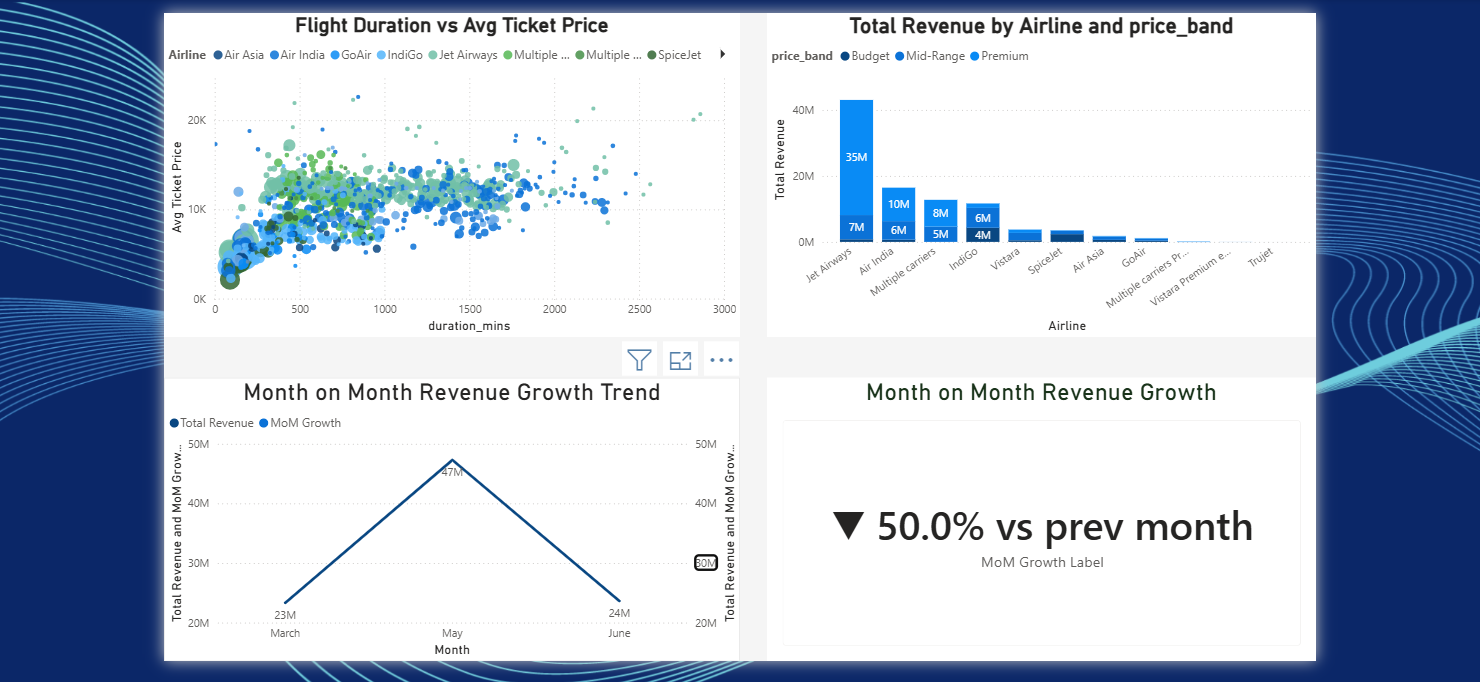

The dashboard page shown, as its layout file describes it:
{"tool":"powerbi","page":{"name":"Pricing Intelligence","canvas":[1280,720],"ordinal":2},"visuals":[{"type":"scatterChart","title":"Flight Duration vs Avg Ticket Price","fields":{"X":["flights.duration_mins"],"Y":["_Measure.Avg Ticket Price"],"Series":["flights.Airline"],"Size":["_Measure.Total Flights"]},"box":[0,0,640,360],"z":0},{"type":"columnChart","fields":{"Category":["flights.Airline"],"Y":["_Measure.Total Revenue"],"Series":["flights.price_band"]},"box":[670,0,610,360],"z":1000},{"type":"cardVisual","title":"Month on Month Revenue Growth","fields":{"Data":["_Measure.MoM Growth Label"]},"box":[670,405,610,315],"z":1003},{"type":"lineChart","title":"Month on Month Revenue Growth Trend","fields":{"Category":["flights.Date_of_Journey.Variation.Date Hierarchy.Month"],"Y":["_Measure.Total Revenue"],"Y2":["_Measure.MoM Growth"]},"box":[0,405,640,315],"z":1004}]}

Visuals, with their boxes on the page's 1280x720 design canvas (x1, y1, x2, y2). These are canvas units, not pixel positions in the 1480x682 screenshot, which may show the page scaled, cropped or inside an application window:
"Flight Duration vs Avg Ticket Price" scatterChart: (x1=0, y1=0, x2=640, y2=360)
columnChart - flights.Airline x _Measure.Total Revenue: (x1=670, y1=0, x2=1280, y2=360)
"Month on Month Revenue Growth" cardVisual: (x1=670, y1=405, x2=1280, y2=720)
"Month on Month Revenue Growth Trend" lineChart: (x1=0, y1=405, x2=640, y2=720)
